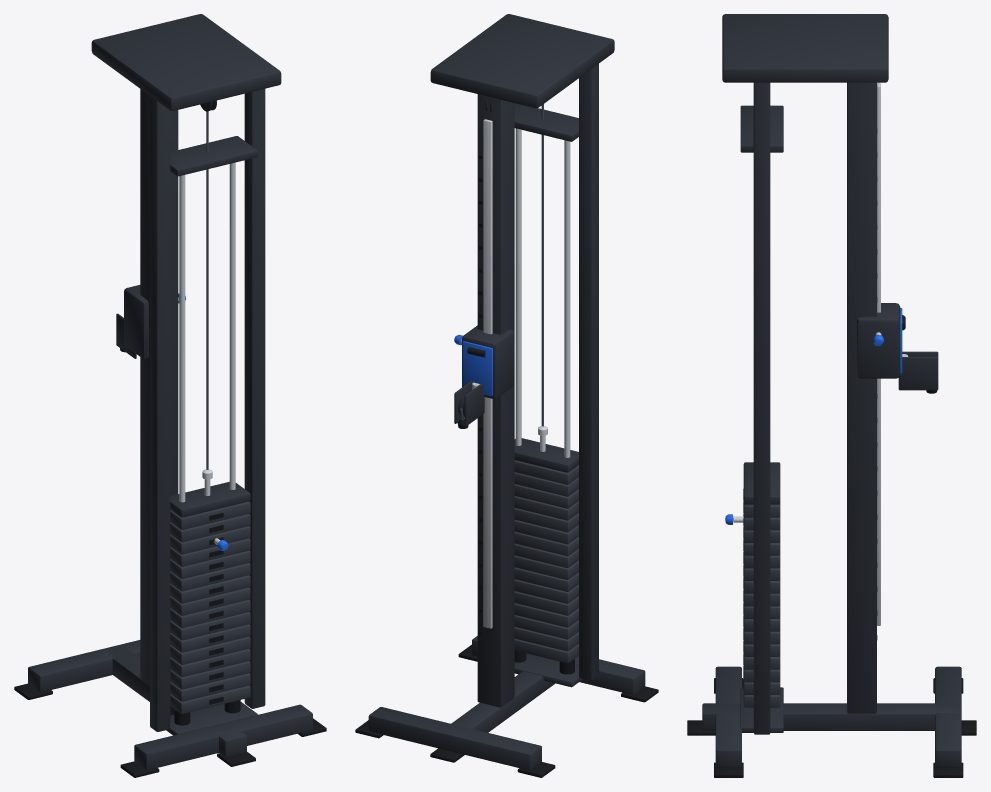
The model's file is single-cable-tower.glb.
3 views of the same model, side by side, from view 1: azimuth 30°, elevation 25°; view 2: azimuth 150°, elevation 25°; view 3: azimuth 270°, elevation 25° (orthographic). The views are drawn at different scales.
Visible parts, largest first — view 1: frame.frame, stack.stack, frame.chrome, frame.rubber, stack.frame, carriage.frame, stack.rubber, frame.cable; view 2: frame.frame, stack.stack, frame.chrome, frame.rubber, carriage.frame, stack.frame, carriage.accent, pulley.frame, frame.cable; view 3: frame.frame, stack.stack, carriage.frame, frame.chrome, pulley.frame, frame.rubber, stack.frame.
Part boxes in pixels (x1,y1,x2,y2): frame.frame: (28,14,312,770); stack.stack: (170,501,250,713); frame.chrome: (179,162,235,502); frame.rubber: (14,683,326,777); stack.frame: (170,481,250,517); carriage.frame: (124,285,148,358); stack.rubber: (209,512,223,704); frame.cable: (206,111,208,469); frame.frame: (368,14,645,770); stack.stack: (514,460,578,663); frame.chrome: (483,119,570,628); frame.rubber: (355,155,658,777); carriage.frame: (462,325,514,398); stack.frame: (514,438,578,472); carriage.accent: (454,334,492,396); pulley.frame: (454,380,484,426); frame.cable: (541,104,543,426); frame.frame: (702,14,961,767); stack.stack: (743,503,780,707); carriage.frame: (857,303,900,378); frame.chrome: (877,82,880,625); pulley.frame: (898,351,938,390); frame.rubber: (687,128,976,777); stack.frame: (743,462,780,504).
Size of the model in its own units: 0.69 by 2.29 by 0.87.
